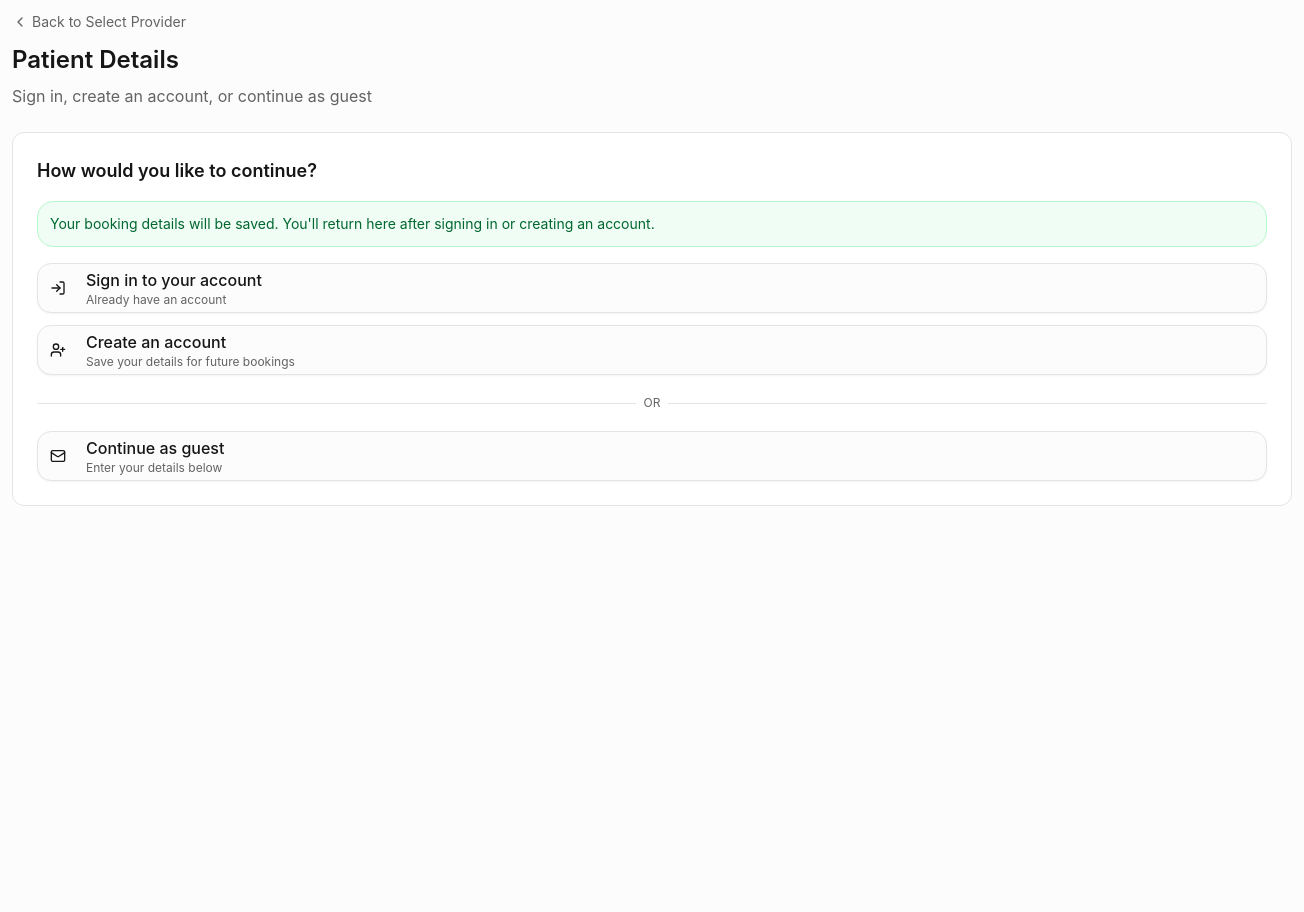
Guest Form — comprehensive validation › pre-fills guest form from previous patientDetails (restore state)
Click the text "Continue as guest" at (155, 448), box [86,436,224,460]
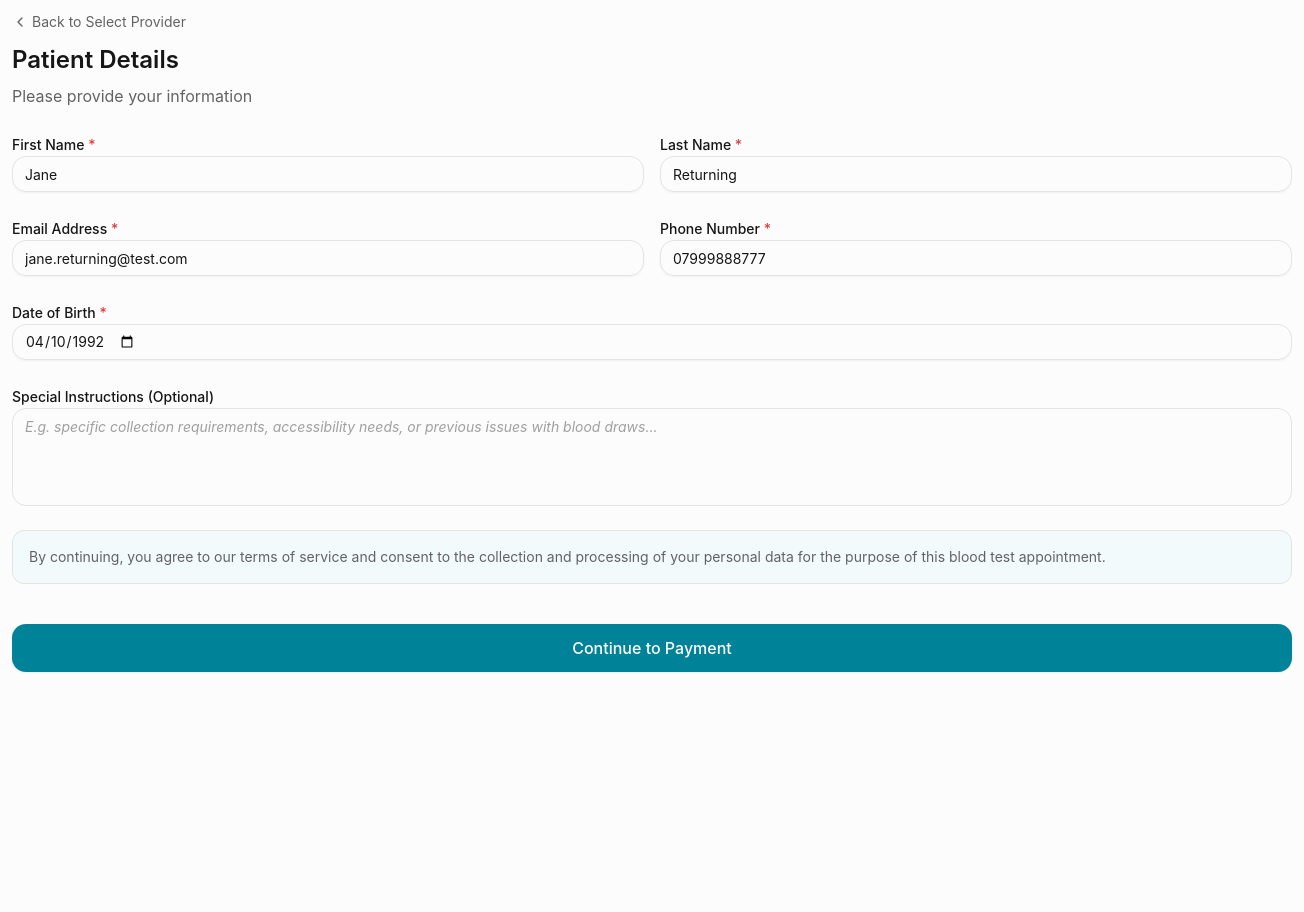
Result: the field labelled "First Name *" holds "Jane" at [12,156,644,192]
Result: the field labelled "Last Name *" holds "Returning" at [660,156,1292,192]
Result: the field labelled "Email Address *" holds "jane.returning@test.com" at [12,240,644,276]
